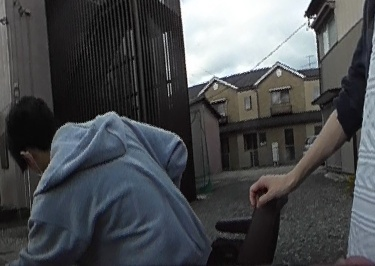person: (7, 87, 208, 266)
